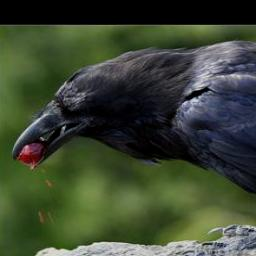Crow: (11, 39, 256, 256)
